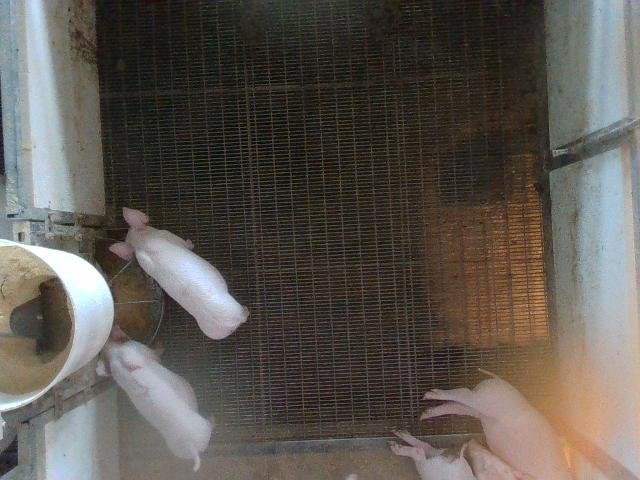pig-5: (98, 325, 211, 469)
